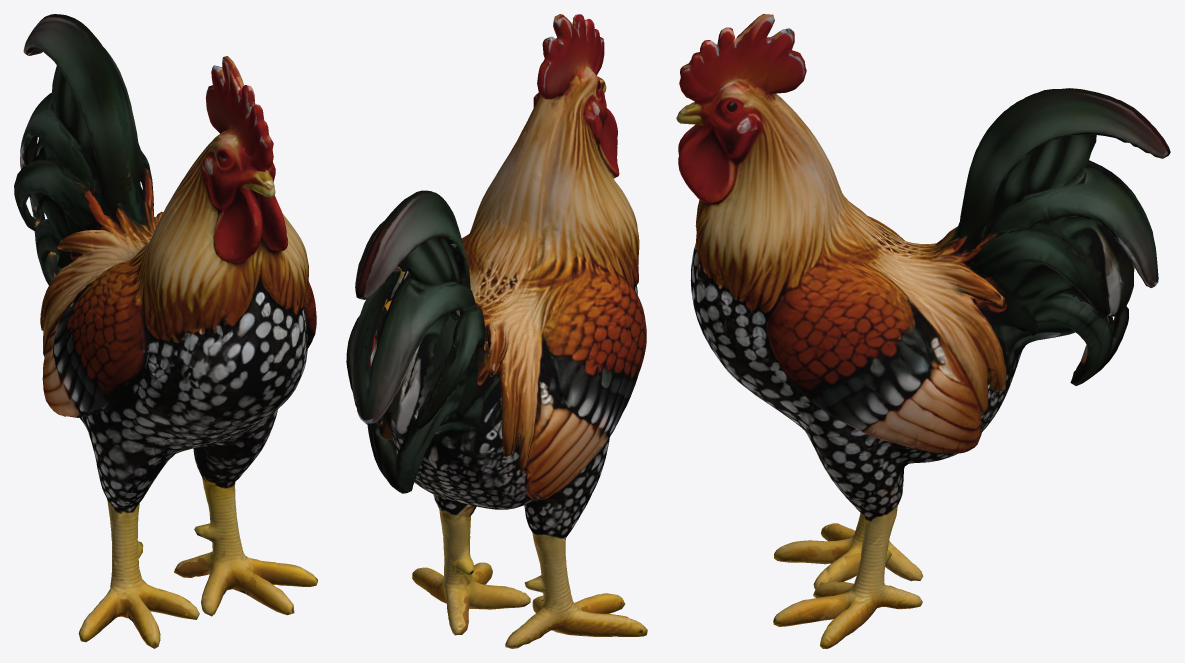
The model's file is gallo.glb.
The picture shows the model from 3 angles, left to right: view 1: azimuth 30°, elevation 25°; view 2: azimuth 150°, elevation 25°; view 3: azimuth 270°, elevation 25°; orthographic projection.
Visible parts, largest first — view 1: gallo; view 2: gallo; view 3: gallo.
Part boxes in pixels (<box>): gallo: <box>14,14,317,648</box>; gallo: <box>346,14,647,648</box>; gallo: <box>676,14,1170,648</box>.
Size of the model in its own units: 0.2361 by 0.55 by 0.4253.
1 material, 1 textured.
